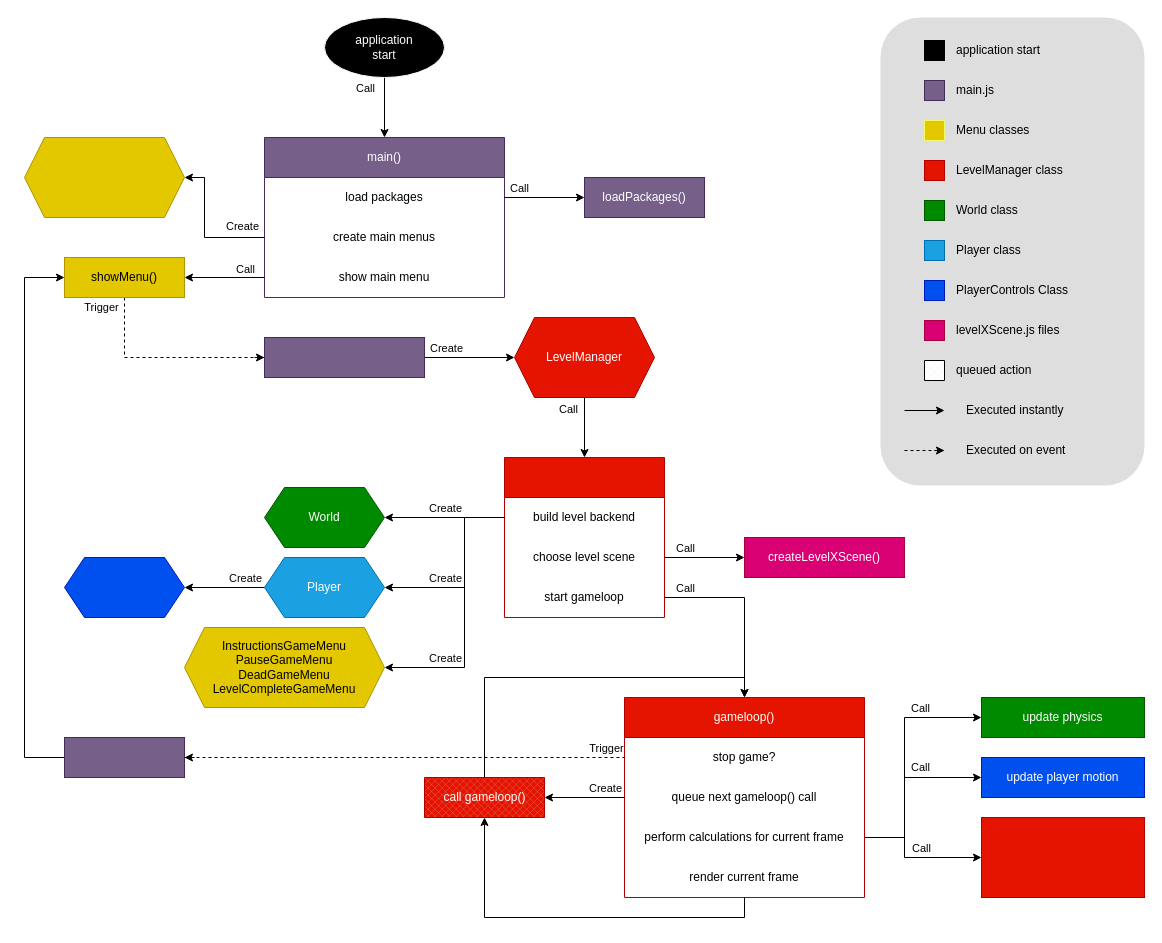
Image size: 1162x943. Some labels were removed from this diagram. Each missing label, with the box of its shape:
check player collisions and stop gameloop on next iteration is condition is met: (980, 816, 1144, 898)
constructor(): (504, 456, 664, 618)
exitLevel(): (64, 736, 184, 778)
loadLevel(): (264, 336, 424, 378)
MainMainMenu LevelsMainMenu ControlsMainMenu SettingsMainMenu: (24, 136, 184, 218)
PlayerControls: (64, 556, 184, 618)
